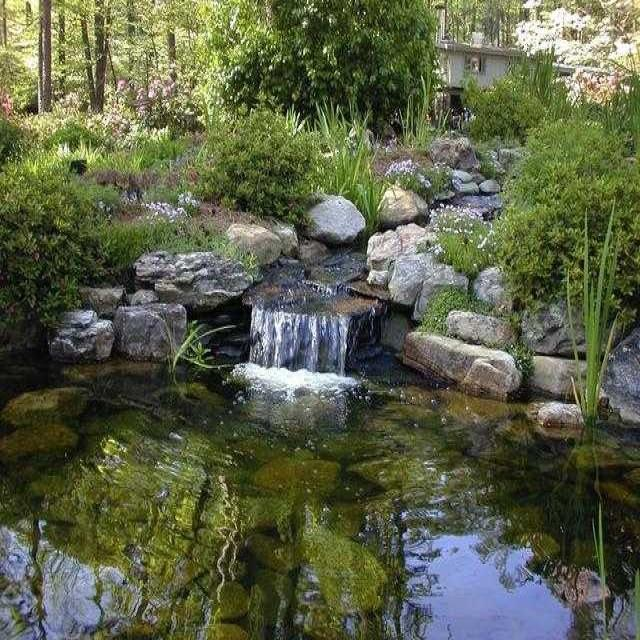Ponds: (5, 139, 640, 640)
